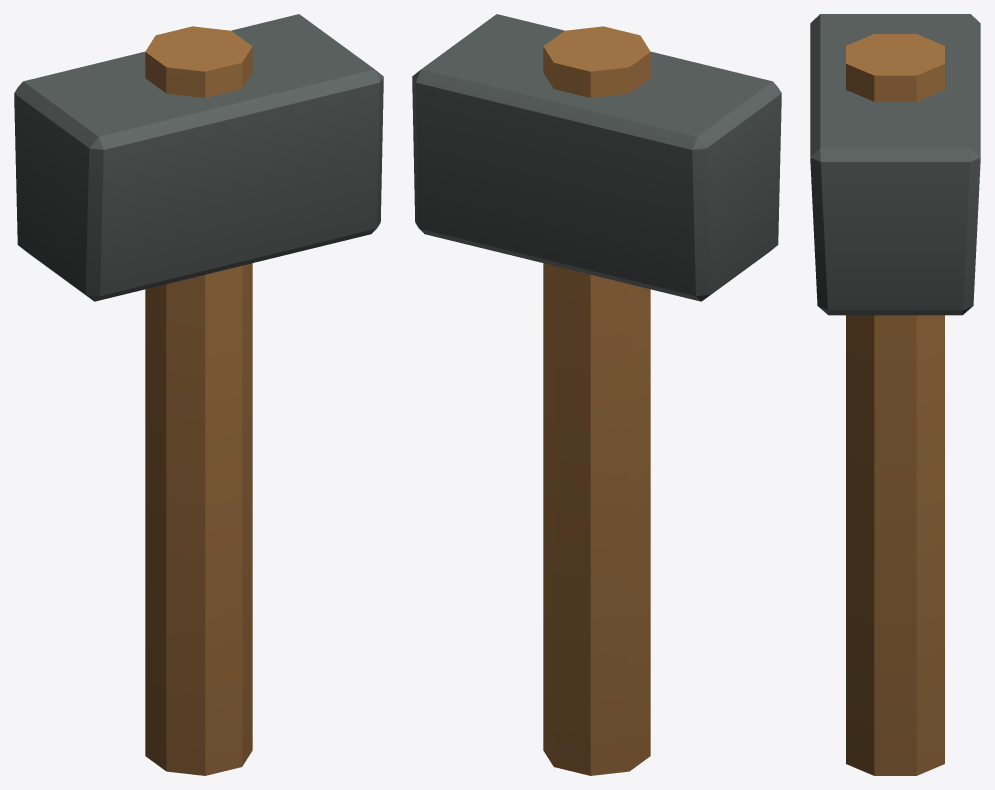
File: Tool_Hammer_05.obj
3 renders of one model, left to right at view 1: azimuth 30°, elevation 25°; view 2: azimuth 150°, elevation 25°; view 3: azimuth 270°, elevation 25°, orthographic.
Parts seen in each view (by area): view 1: Tool_Hammer_05; view 2: Tool_Hammer_05; view 3: Tool_Hammer_05.
Boxes of the visible parts, <box> form: Tool_Hammer_05: <box>14,14,383,775</box>; Tool_Hammer_05: <box>412,14,781,775</box>; Tool_Hammer_05: <box>810,14,980,775</box>.
Size of the model in its own units: 0.1316 by 0.3 by 0.0662.
1 material, 1 textured.
